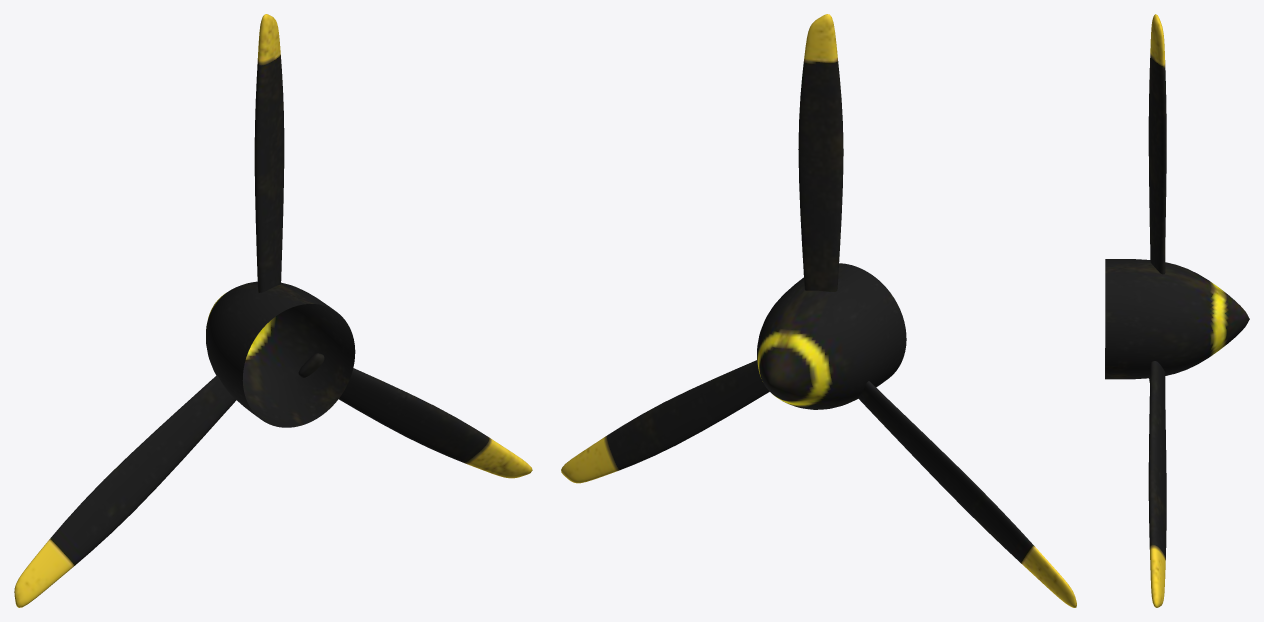
Rendered from propeller.obj.
3 renders of one model, left to right at view 1: azimuth 30°, elevation 25°; view 2: azimuth 150°, elevation 25°; view 3: azimuth 270°, elevation 25°, orthographic. The views are drawn at different scales.
Visible parts, largest first — view 1: Glass; view 2: Glass; view 3: Glass.
Boxes of the visible parts, x1,y1,x2,y2 form: Glass: [14, 14, 532, 607]; Glass: [561, 14, 1076, 607]; Glass: [1105, 14, 1249, 607].
Size of the model in its own units: 3.45 by 3.41 by 0.9223.
